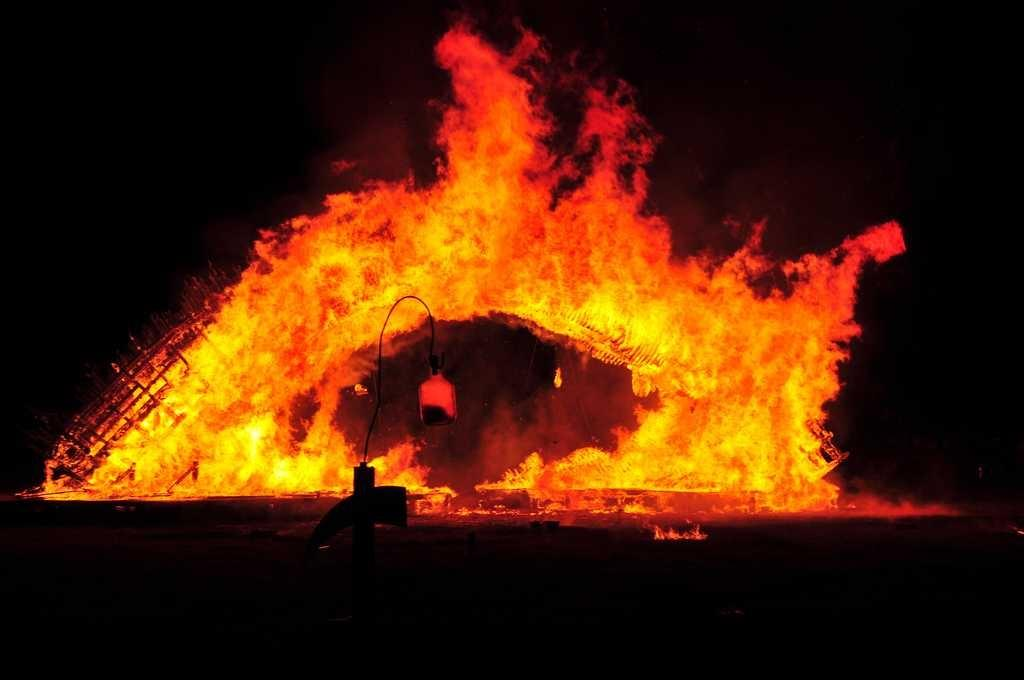fire: (658, 302, 822, 508), (362, 207, 630, 320), (197, 302, 357, 468)
